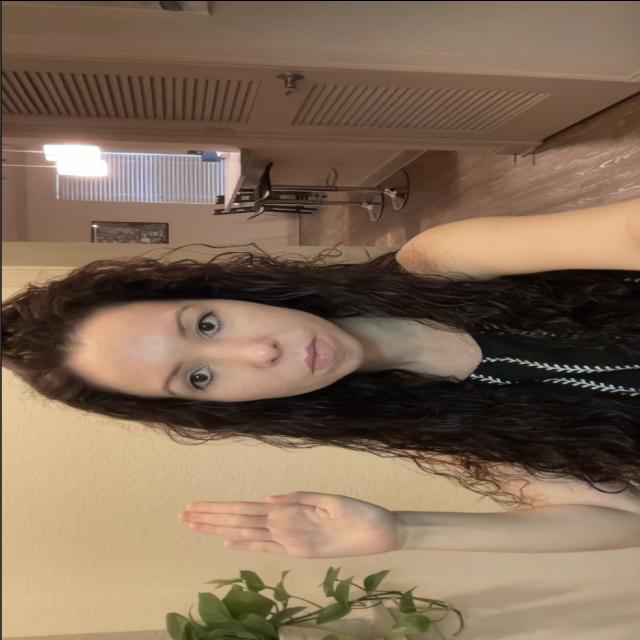Paper: (173, 488, 420, 562)
